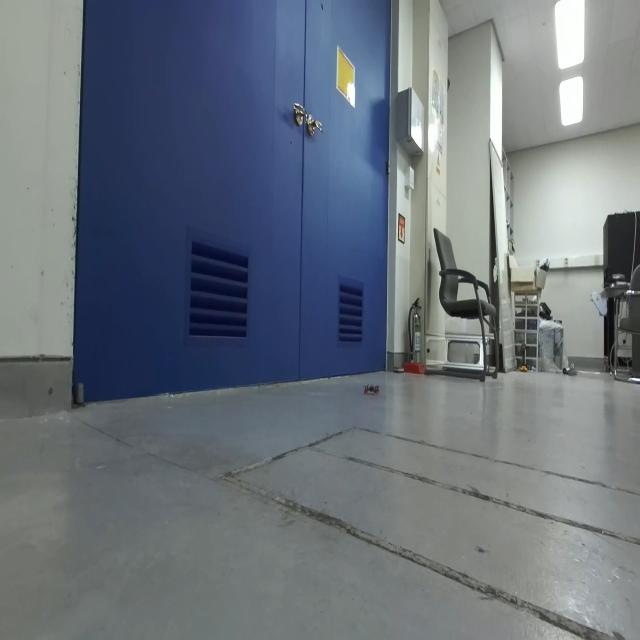crazyflie: (359, 376, 383, 404)
